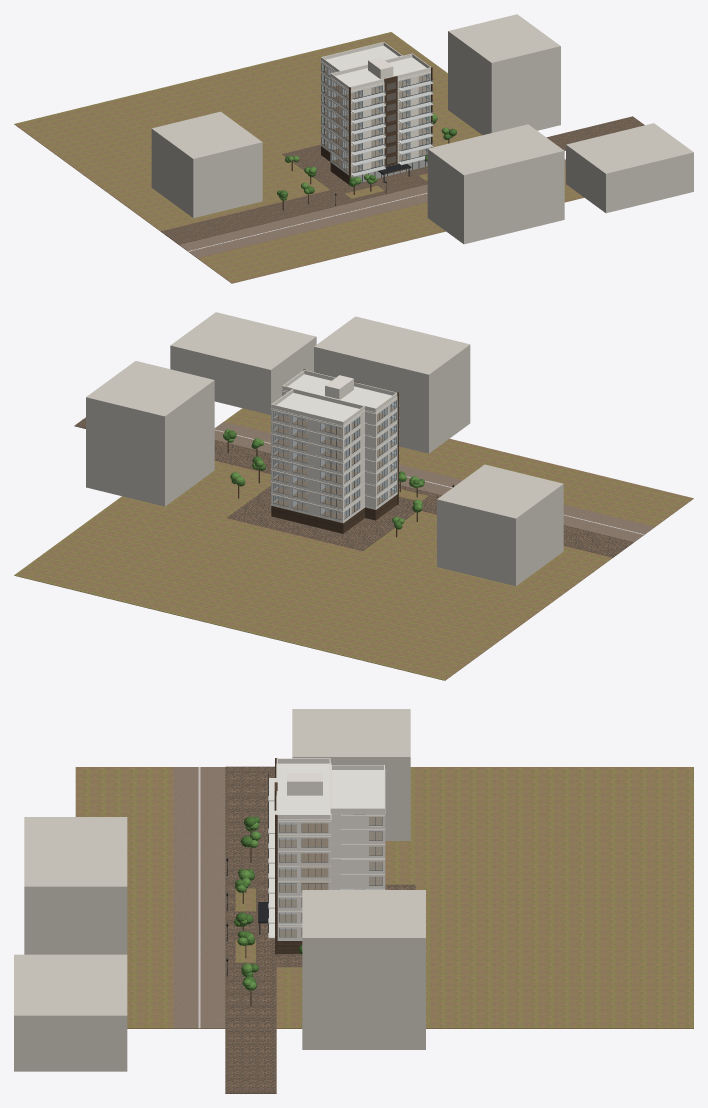
The model's file is building.glb.
3 renders of one model, top to bottom at view 1: azimuth 30°, elevation 25°; view 2: azimuth 150°, elevation 25°; view 3: azimuth 270°, elevation 25°, orthographic. The views are drawn at different scales.
Visible parts, largest first — view 1: Site Neighbour facade, Site Grass, Site Paving, Site Asphalt, Structure Slab edge, Structure Facade stone, Structure Facade cladding, Structure Glass, Floor 8 Facade cladding, Site Leaves 2, Floor 8 Glass, Floor 4 Facade cladding (+13 smaller); view 2: Site Grass, Site Neighbour facade, Site Paving, Structure Slab edge, Site Asphalt, Structure Facade cladding, Structure Facade stone, Floor 8 Facade cladding, Floor 2 Facade cladding, Floor 3 Facade cladding, Floor 6 Facade cladding, Floor 7 Facade cladding (+12 smaller); view 3: Site Grass, Site Neighbour facade, Site Asphalt, Site Paving, Structure Slab edge, Structure Facade cladding, Floor 7 Facade cladding, Floor 8 Facade cladding, Floor 5 Facade cladding, Floor 6 Facade cladding, Floor 4 Facade cladding, Site Leaves (+3 smaller).
Boxes of the visible parts, bbox=[...] form: Site Neighbour facade: bbox=[151, 14, 693, 244]; Site Grass: bbox=[14, 32, 584, 283]; Site Paving: bbox=[161, 116, 644, 244]; Site Asphalt: bbox=[179, 159, 565, 257]; Structure Slab edge: bbox=[320, 45, 430, 175]; Structure Facade stone: bbox=[321, 67, 432, 185]; Structure Facade cladding: bbox=[321, 42, 430, 90]; Structure Glass: bbox=[351, 82, 427, 181]; Floor 8 Facade cladding: bbox=[321, 62, 430, 100]; Site Leaves 2: bbox=[279, 114, 453, 200]; Floor 8 Glass: bbox=[322, 64, 429, 98]; Floor 4 Facade cladding: bbox=[321, 104, 430, 142]; Site Grass: bbox=[14, 408, 693, 680]; Site Neighbour facade: bbox=[86, 312, 563, 586]; Site Paving: bbox=[74, 417, 633, 557]; Structure Slab edge: bbox=[270, 374, 397, 523]; Site Asphalt: bbox=[214, 422, 654, 541]; Structure Facade cladding: bbox=[271, 370, 397, 425]; Structure Facade stone: bbox=[271, 369, 398, 533]; Floor 8 Facade cladding: bbox=[271, 391, 397, 437]; Floor 2 Facade cladding: bbox=[271, 470, 397, 509]; Floor 3 Facade cladding: bbox=[271, 458, 397, 497]; Floor 6 Facade cladding: bbox=[271, 422, 397, 461]; Floor 7 Facade cladding: bbox=[271, 410, 397, 449]; Site Grass: bbox=[75, 767, 693, 1028]; Site Neighbour facade: bbox=[14, 709, 425, 1071]; Site Asphalt: bbox=[173, 767, 225, 1028]; Site Paving: bbox=[225, 766, 415, 1093]; Structure Slab edge: bbox=[276, 763, 385, 940]; Structure Facade cladding: bbox=[276, 758, 384, 819]; Floor 7 Facade cladding: bbox=[277, 829, 385, 849]; Floor 8 Facade cladding: bbox=[277, 814, 385, 834]; Floor 5 Facade cladding: bbox=[277, 859, 385, 879]; Floor 6 Facade cladding: bbox=[277, 844, 385, 864]; Floor 4 Facade cladding: bbox=[277, 874, 385, 894]; Site Leaves: bbox=[235, 816, 302, 990].
Bounding box in the file's own units: 150 × 31.94 × 132.
Materials: 25 (11 with a texture image).
